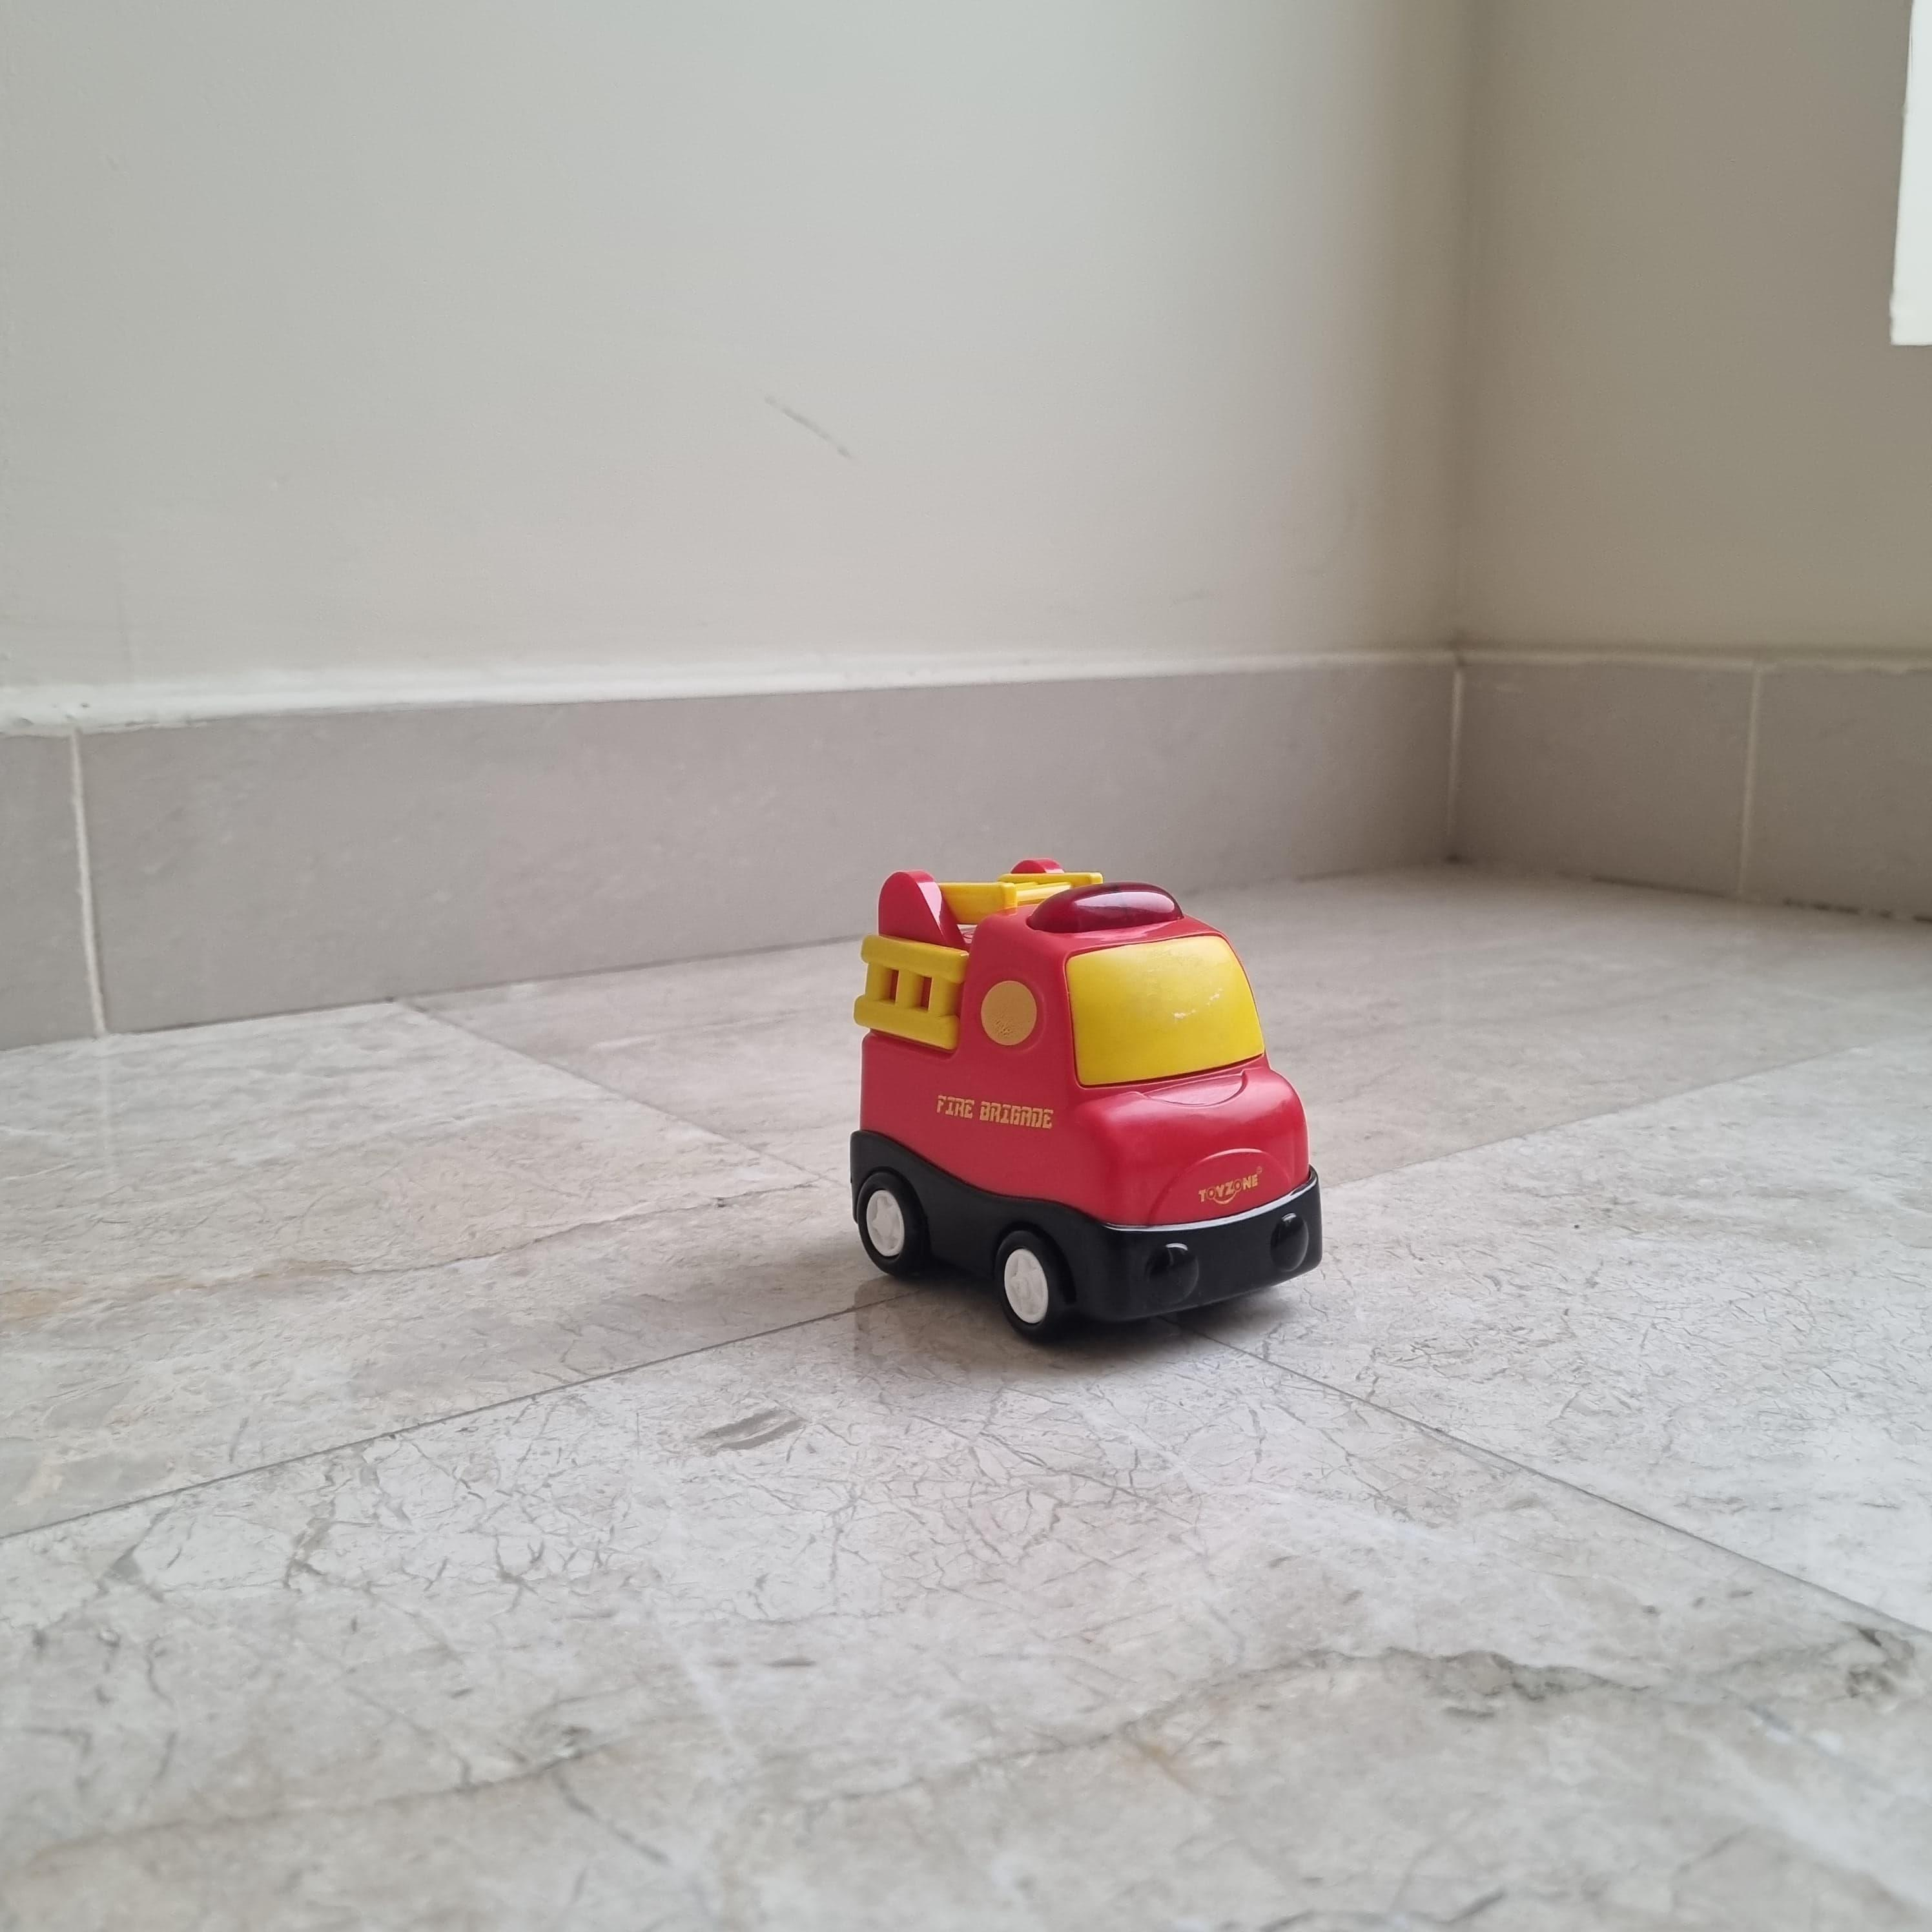firetruck_off: (847, 856, 1322, 1343)
